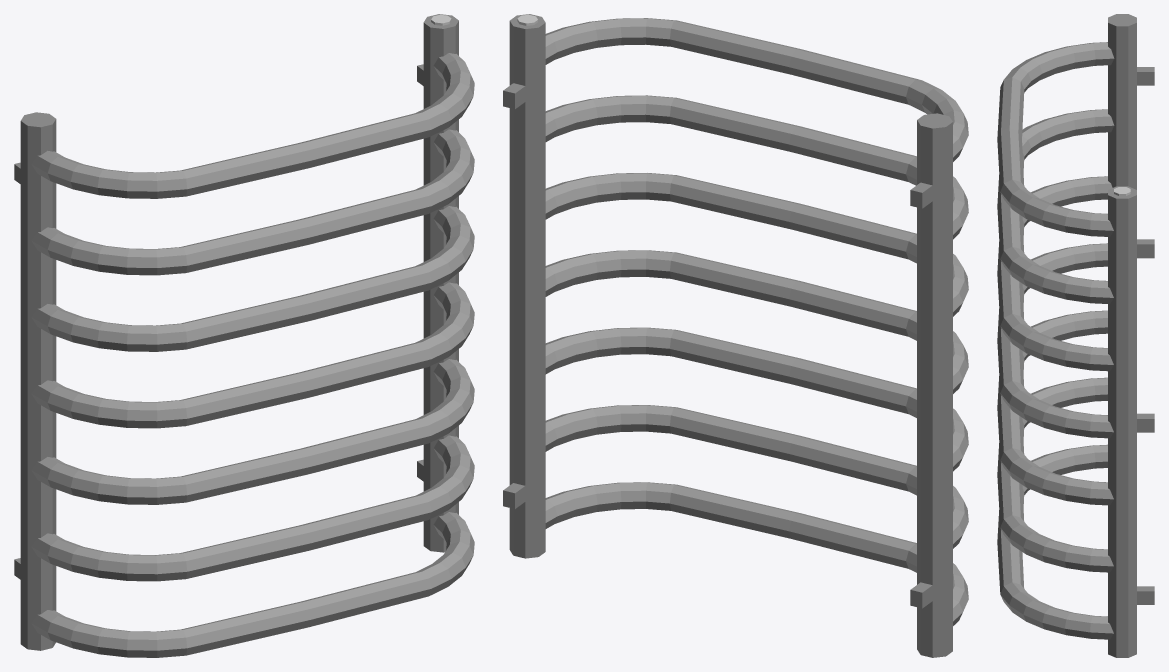
File: TowelRail_05.fbx
3 views of the same model, side by side, from view 1: azimuth 30°, elevation 25°; view 2: azimuth 150°, elevation 25°; view 3: azimuth 270°, elevation 25° (orthographic). The views are drawn at different scales.
Parts seen in each view (by area): view 1: TowelRail_05; view 2: TowelRail_05; view 3: TowelRail_05.
Part boxes in pixels (x1,y1,x2,y2): TowelRail_05: (14, 14, 474, 657); TowelRail_05: (503, 14, 968, 657); TowelRail_05: (997, 14, 1154, 657).
Size of the model in its own units: 61.26 by 71.37 by 22.05.
